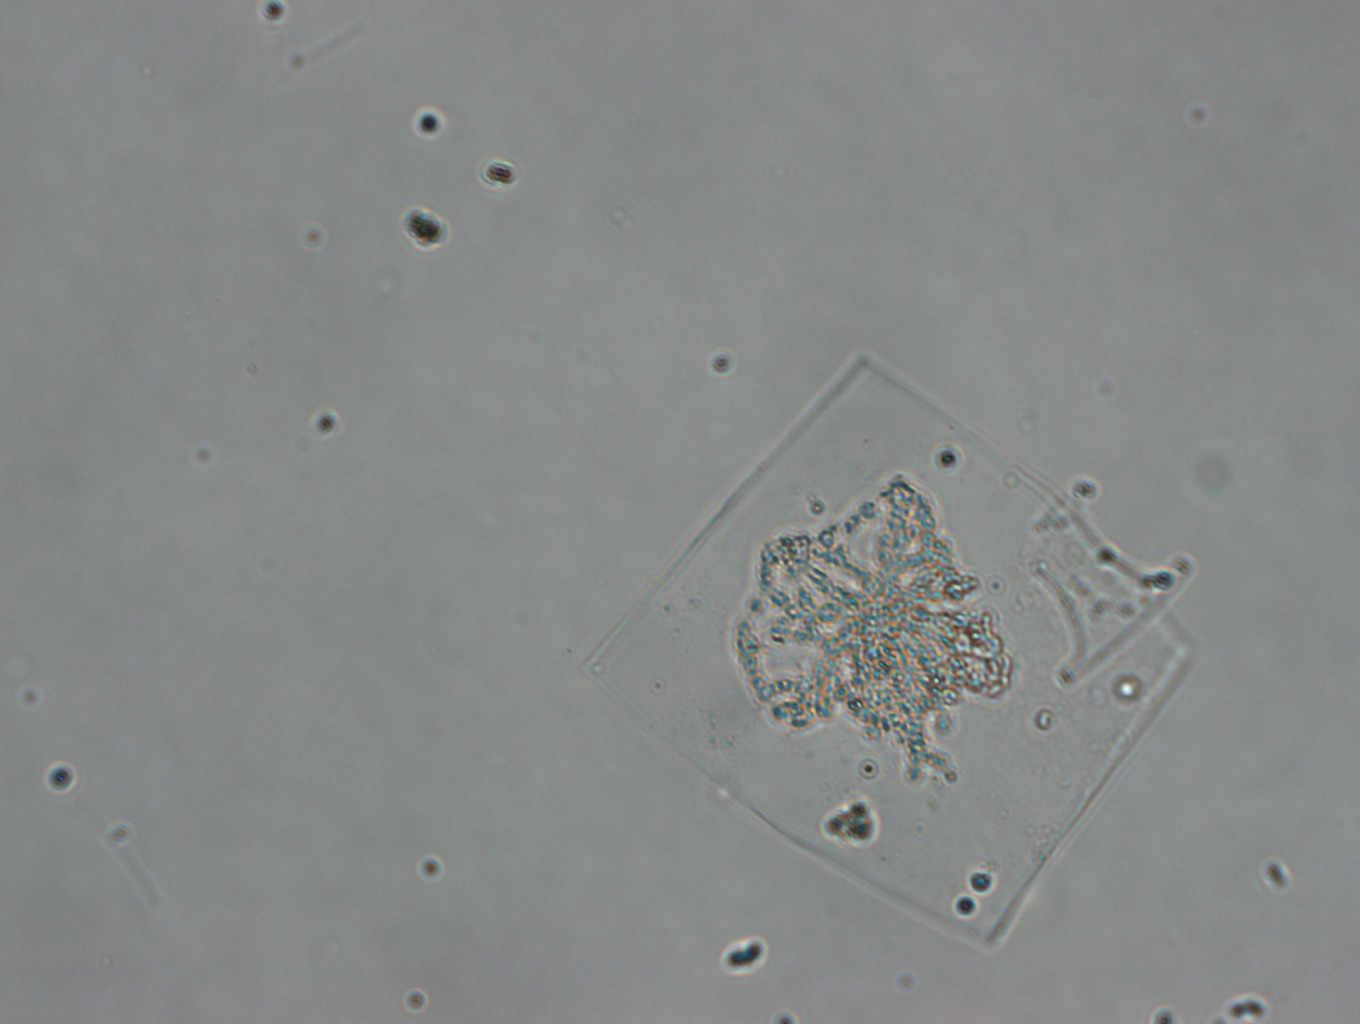helicotheca: (593, 353, 1205, 952)
